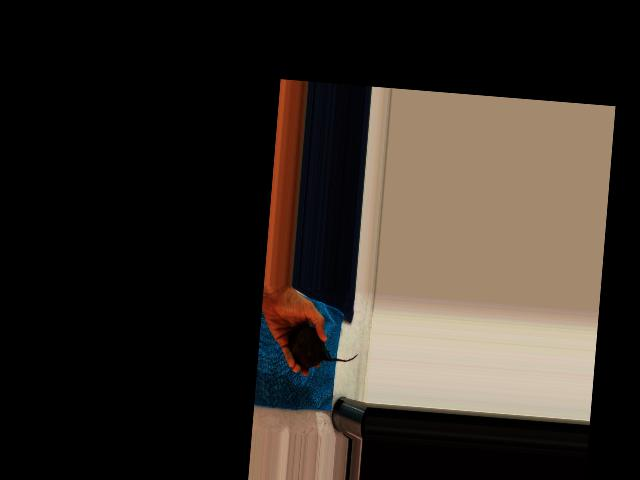beet: (285, 325, 359, 372)
